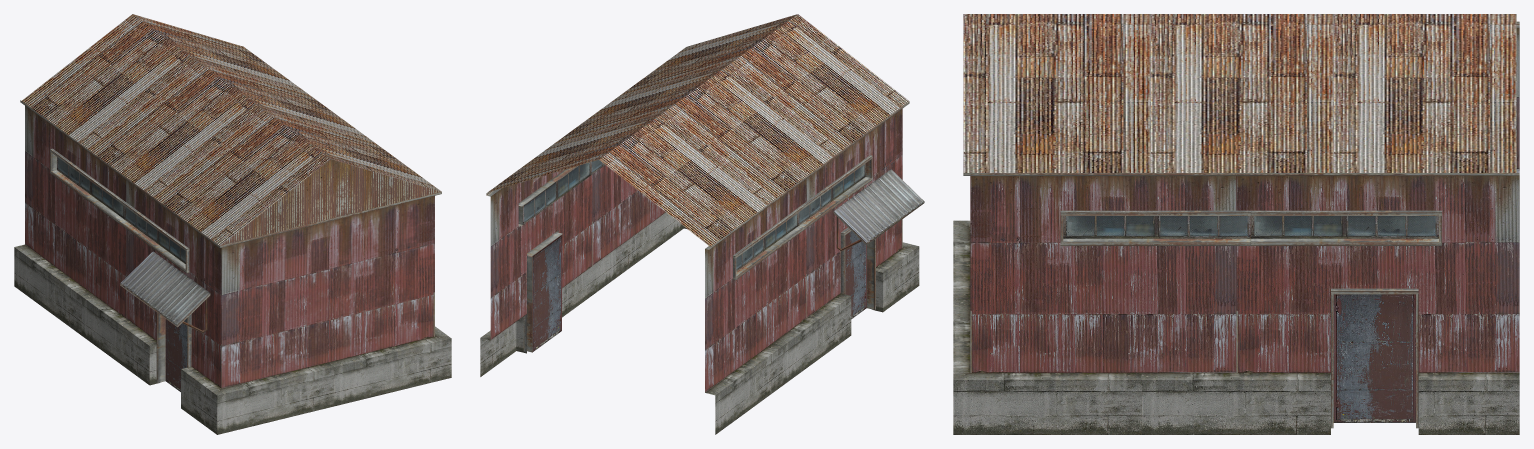
3 renders of one model, left to right at view 1: azimuth 30°, elevation 25°; view 2: azimuth 150°, elevation 25°; view 3: azimuth 270°, elevation 25°, orthographic. The views are drawn at different scales.
Visible parts, largest first — view 1: Object089; view 2: Object089; view 3: Object089.
Boxes of the visible parts, x1,y1,x2,y2 form: Object089: (14,14,451,434); Object089: (480,14,924,434); Object089: (953,14,1519,434).
Size of the model in its own units: 7.35 by 6.68 by 10.04.
1 material, 1 textured.
